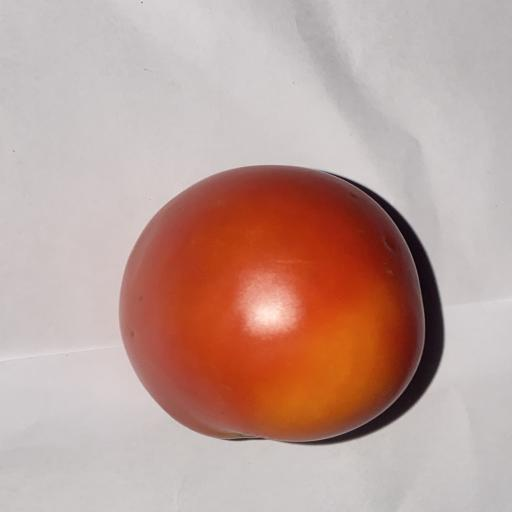ripe: (120, 166, 424, 441)
